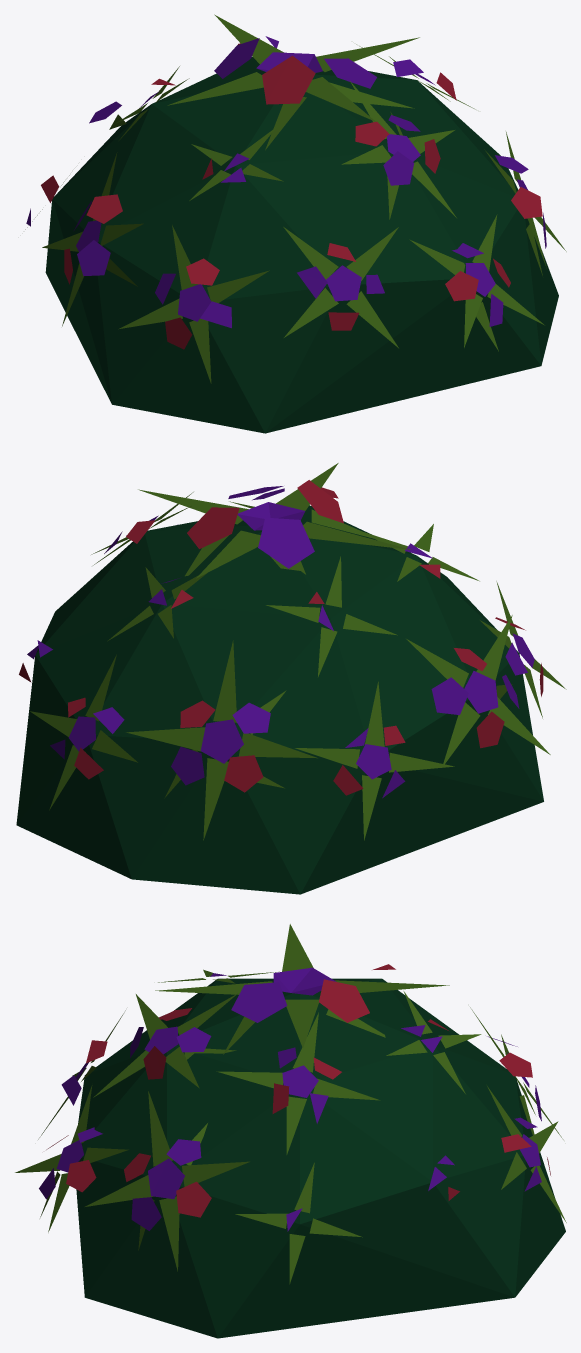
The model's file is flowersBush_lod2.glb.
3 views of the same model, one above another, from view 1: azimuth 30°, elevation 25°; view 2: azimuth 150°, elevation 25°; view 3: azimuth 270°, elevation 25° (orthographic). The views are drawn at different scales.
Parts seen in each view (by area): view 1: Flowers1; view 2: Flowers1; view 3: Flowers1.
Boxes of the visible parts, x1=… form: Flowers1: x1=25, y1=14, x2=566, y2=433; Flowers1: x1=16, y1=463, x2=566, y2=894; Flowers1: x1=15, y1=924, x2=566, y2=1338.
Bounding box in the file's own units: 2.13 × 1.12 × 2.08.
